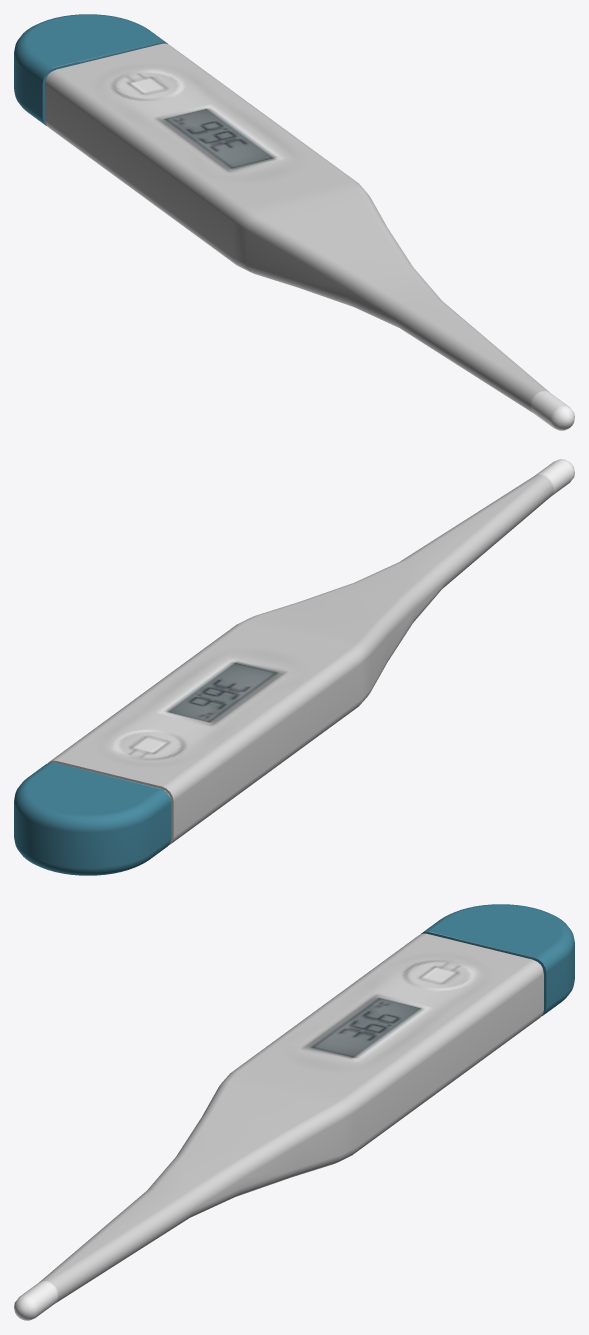
File: Tharmameter.fbx
3 renders of one model, top to bottom at view 1: azimuth 30°, elevation 25°; view 2: azimuth 150°, elevation 25°; view 3: azimuth 330°, elevation 25°, orthographic.
Visible parts, largest first — view 1: Tharmameter; view 2: Tharmameter; view 3: Tharmameter.
Boxes of the visible parts, <box> form: Tharmameter: <box>14,14,574,430</box>; Tharmameter: <box>14,459,574,875</box>; Tharmameter: <box>14,904,574,1320</box>.
Bounding box in the file's own units: 1.86 × 0.8224 × 12.95.
